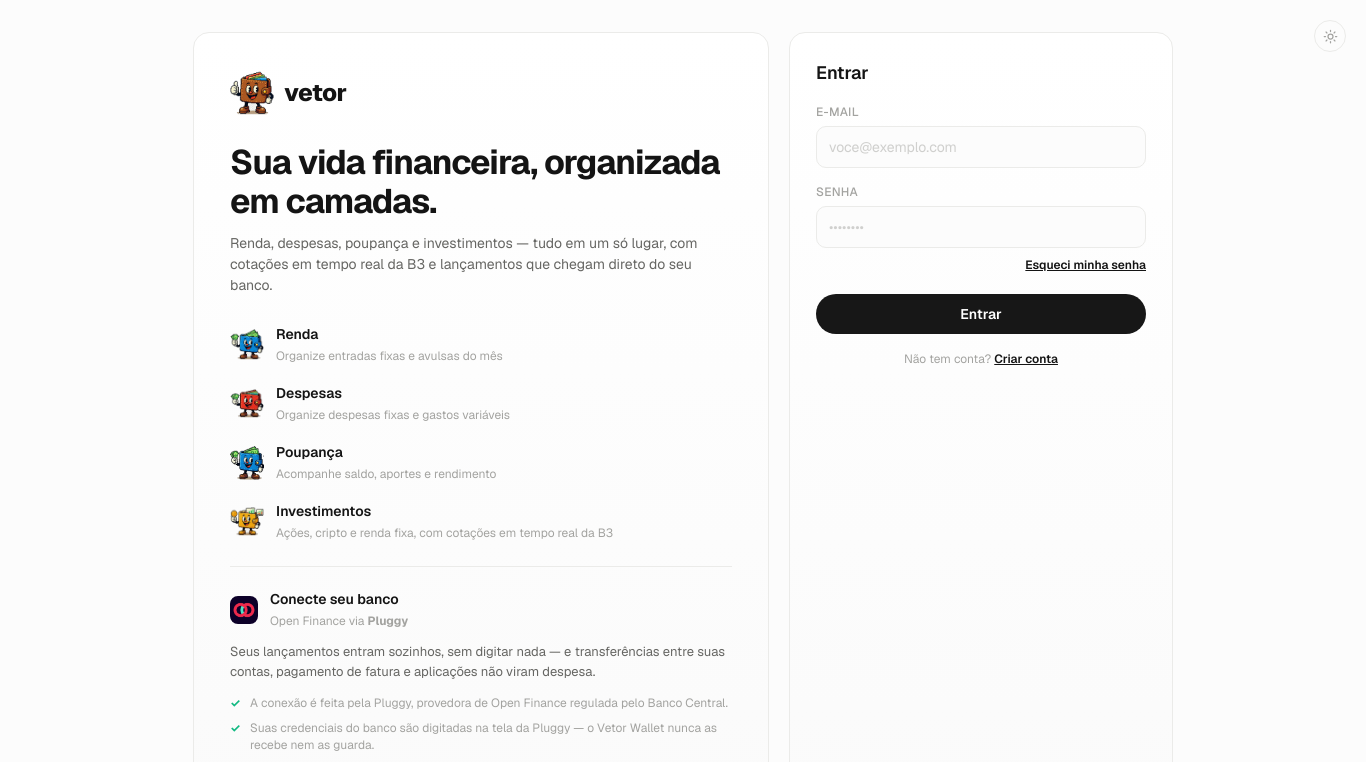
Test: AuthPage — etapa de confirmação (T-106b) › o código só aceita dígitos e o botão trava antes dos 6
This screenshot has width=1366, height=762.
Click the button "Criar conta": (1026, 359) [994,350,1058,368]
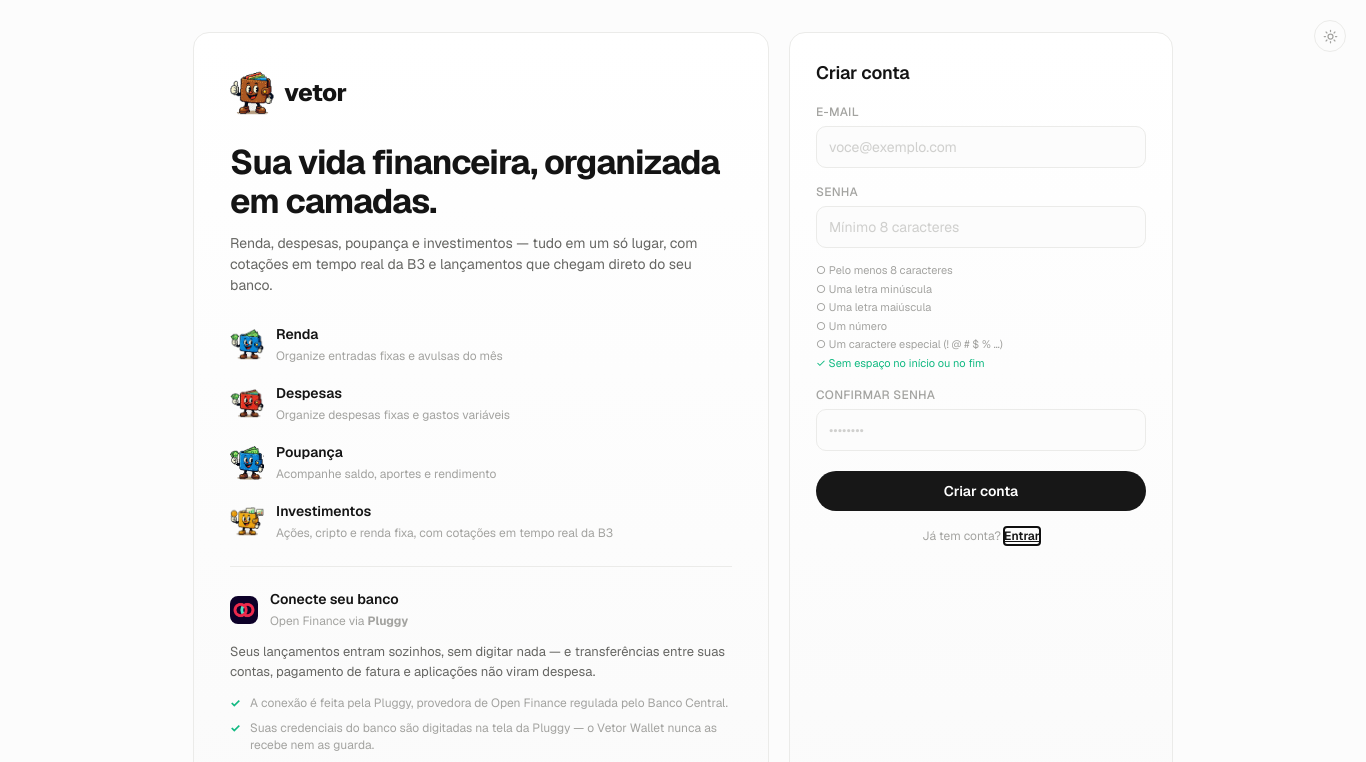
In the field labelled "E-mail": (981, 147) [816,126,1146,168], type "alice@example.com"
In the password field labelled "Senha": (981, 227) [816,206,1146,248], type "Senha123!"
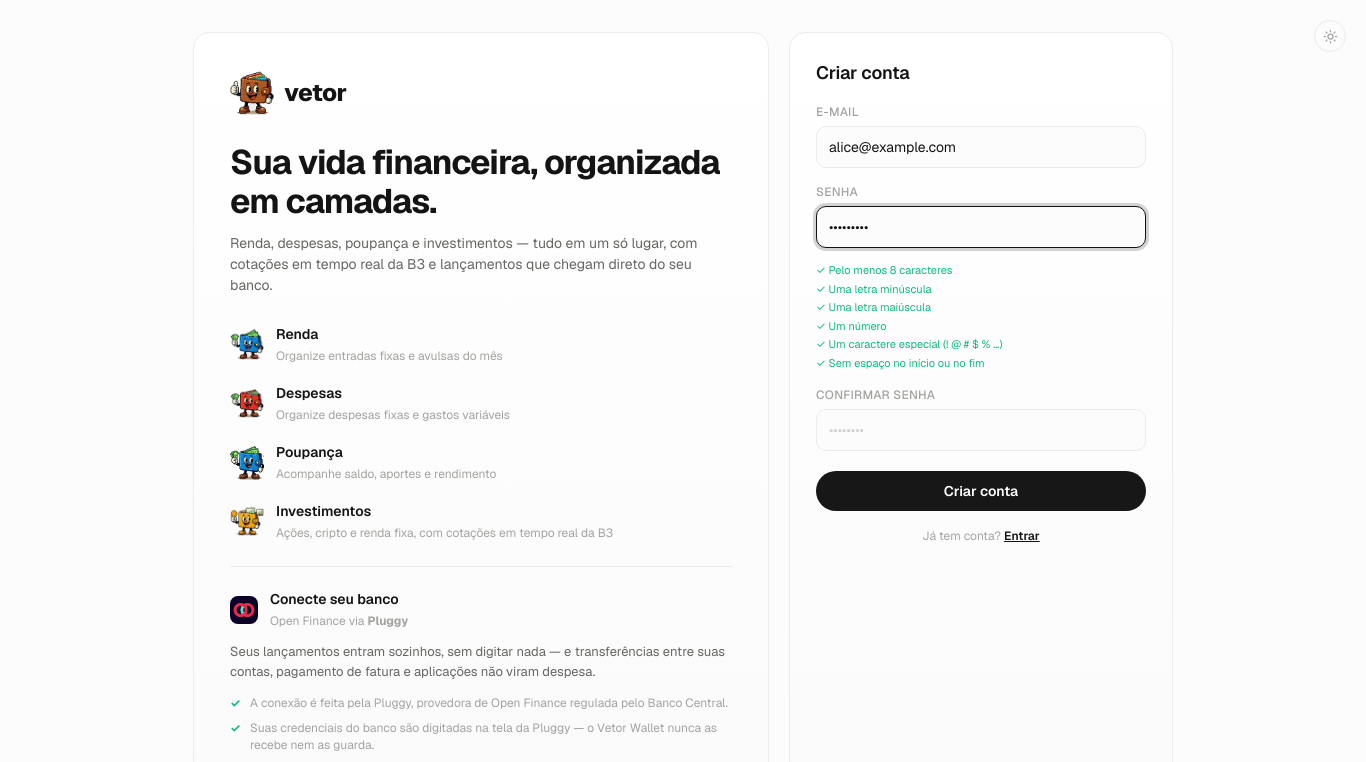
In the password field labelled "Confirmar senha": (981, 430) [816,409,1146,451], type "Senha123!"
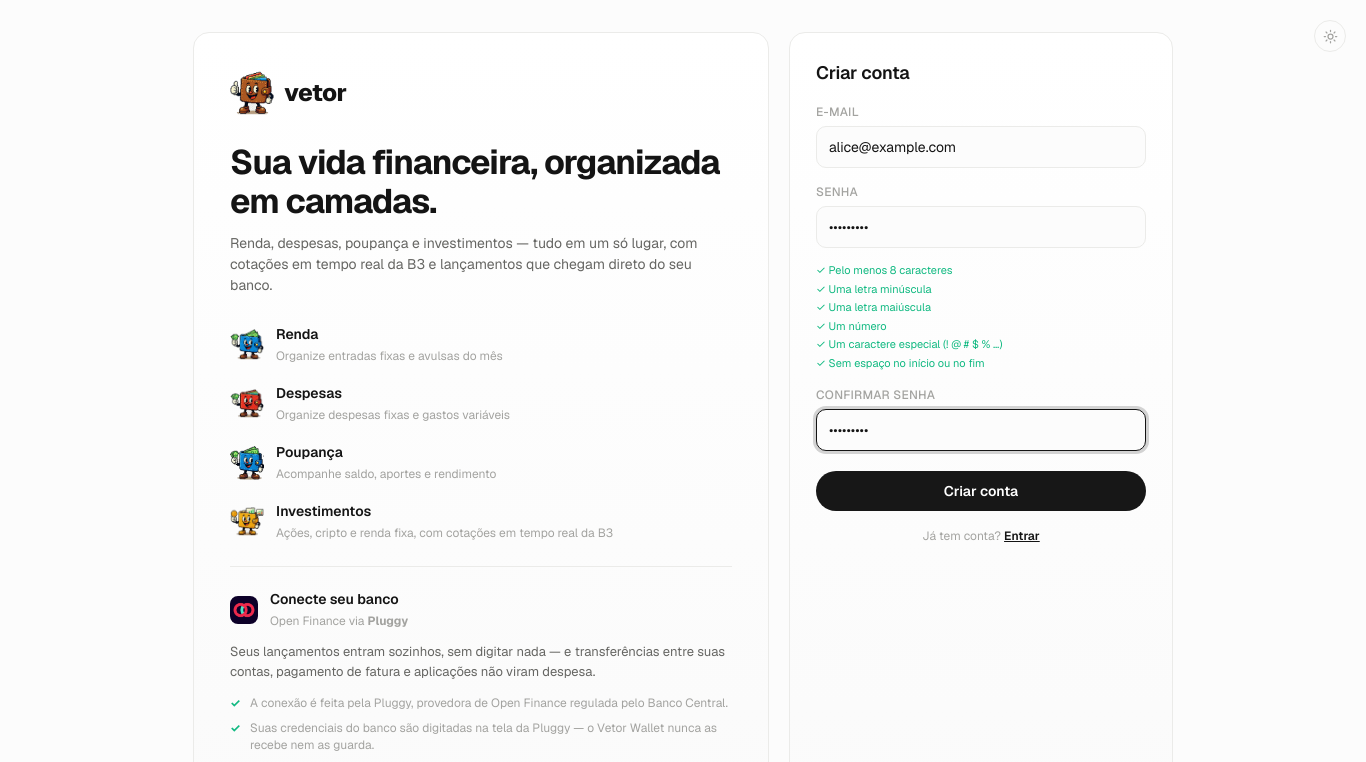
Click the button "Criar conta": (981, 491) [816,471,1146,511]
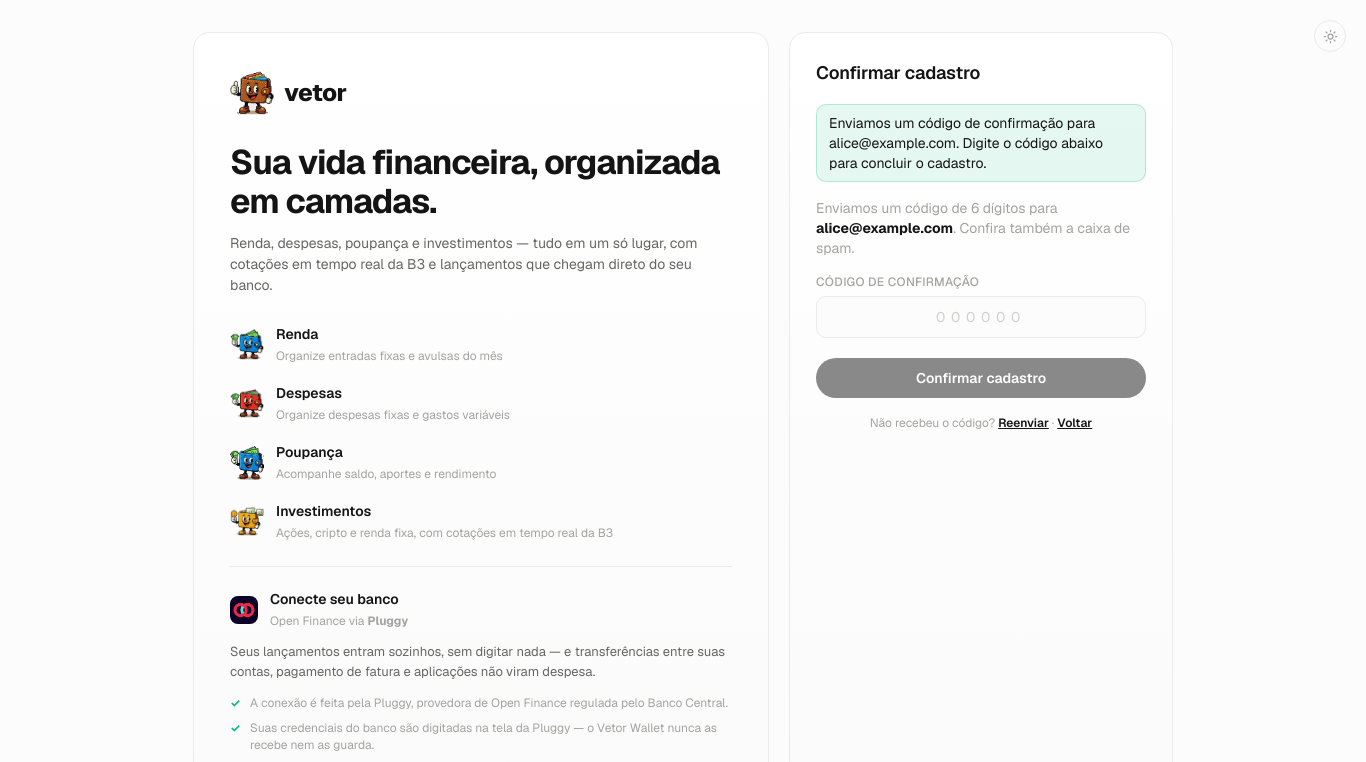
Now the heading "Confirmar cadastro" is shown, box [816,61,980,84]
In the field labelled "Código de confirmação": (981, 317) [816,296,1146,338], type " 12a3 "
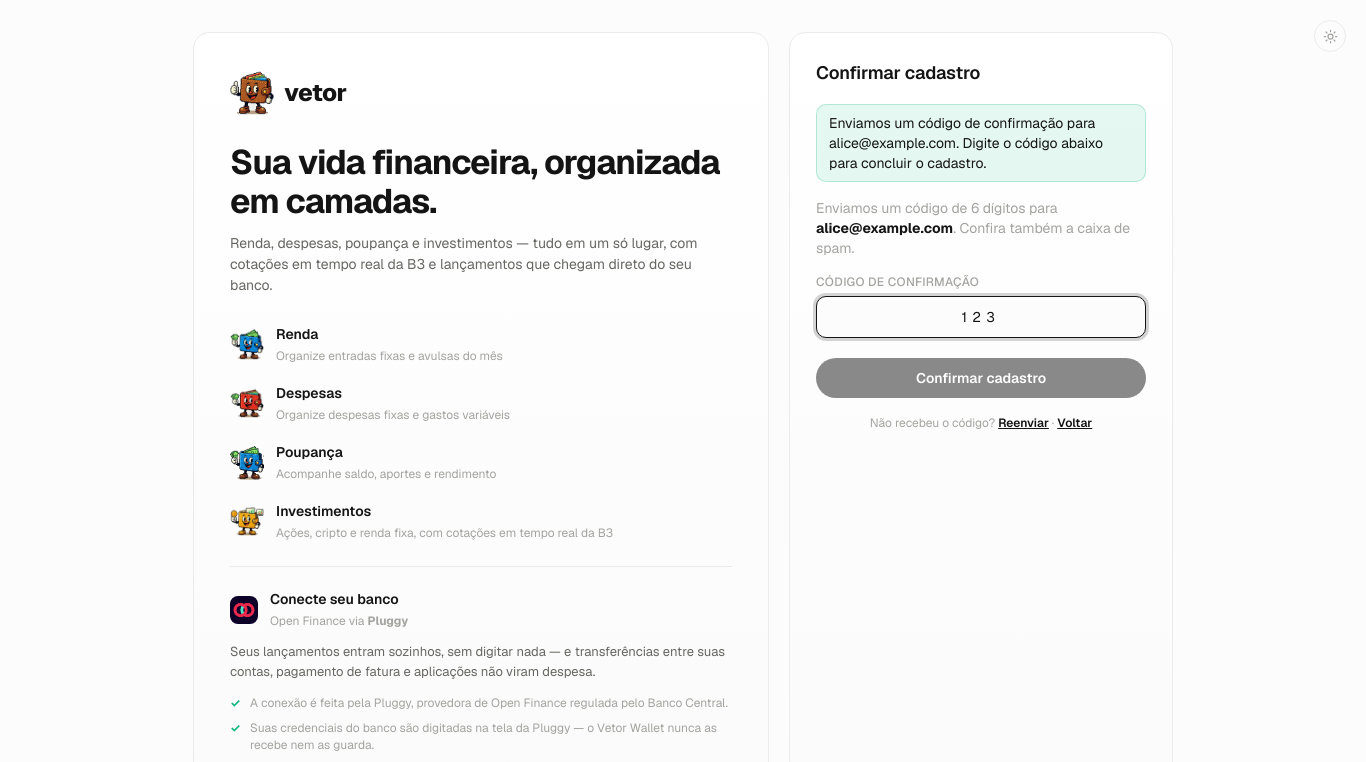
Now the button "Confirmar cadastro" is disabled, box [816,358,1146,398]
Now the field labelled "Código de confirmação" holds "123"
In the field labelled "Código de confirmação": (981, 317) [816,296,1146,338], type "456"
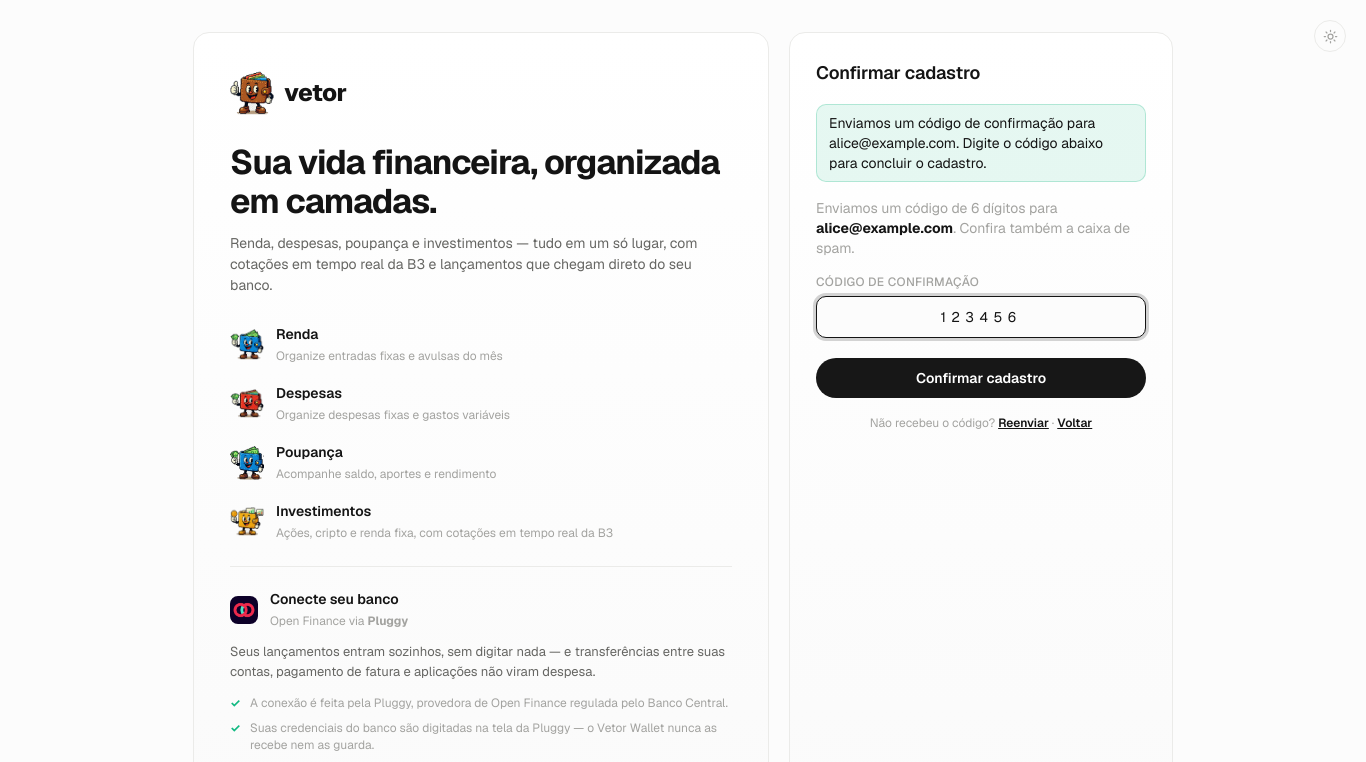
Now the field labelled "Código de confirmação" holds "123456", box [816,296,1146,338]
Now the button "Confirmar cadastro" is enabled, box [816,358,1146,398]
